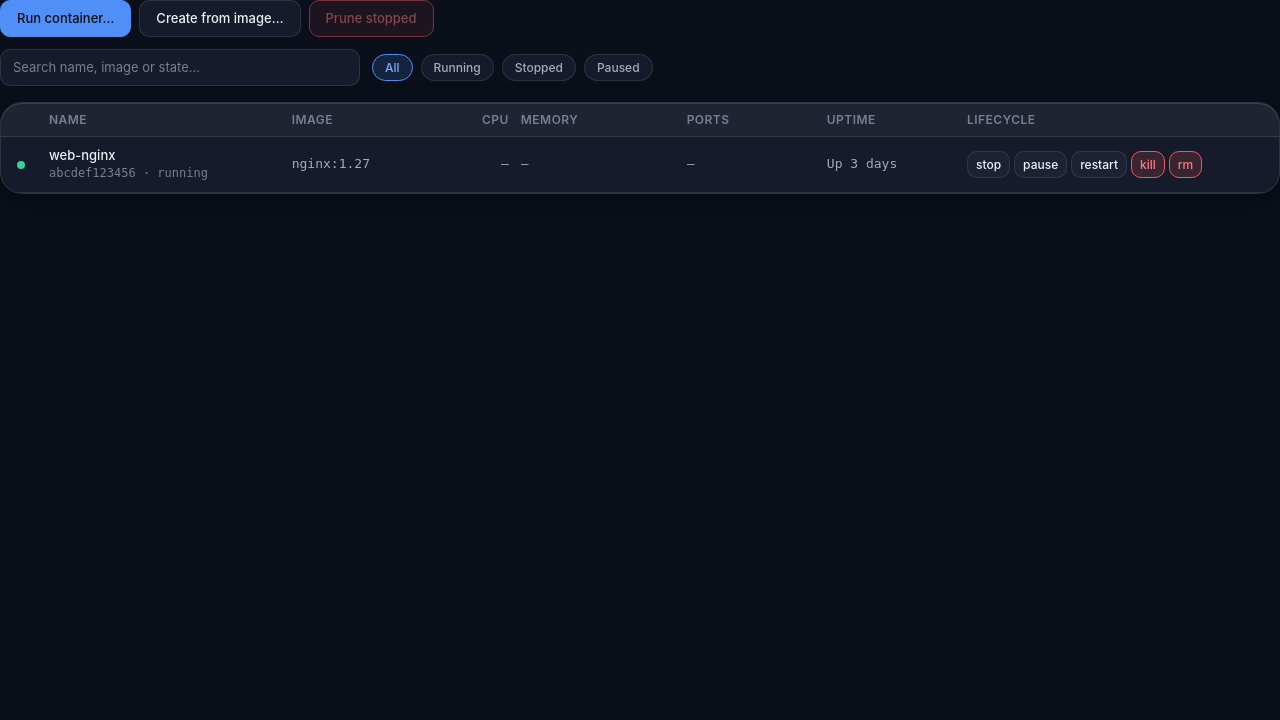
Test: ContainersScreen — create/run entry points (plan-docker_management_app/REQ-27) › opens the same form from "Create from image…" with "Create only" as the primary action
Click the button "Create from image…". click: (220, 18)
box: [139,0,301,37]
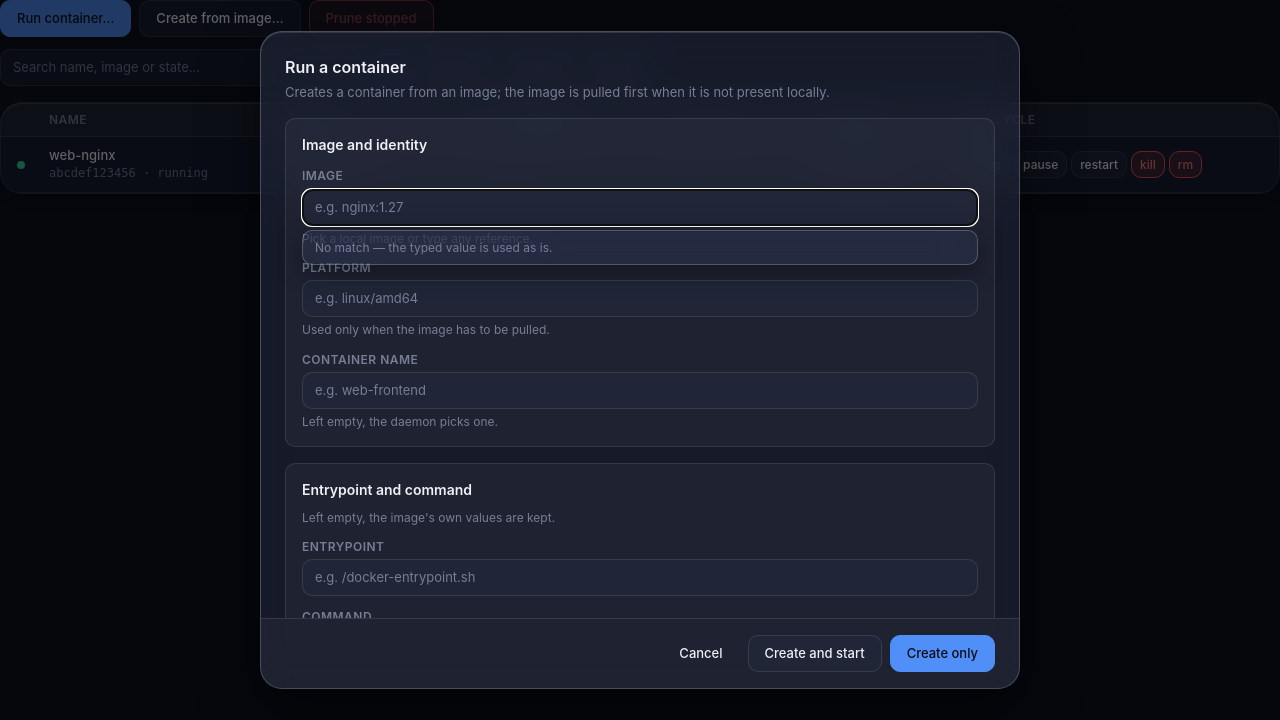
Expected: the dropdown named "Image reference" is shown, [302,189,978,226]
